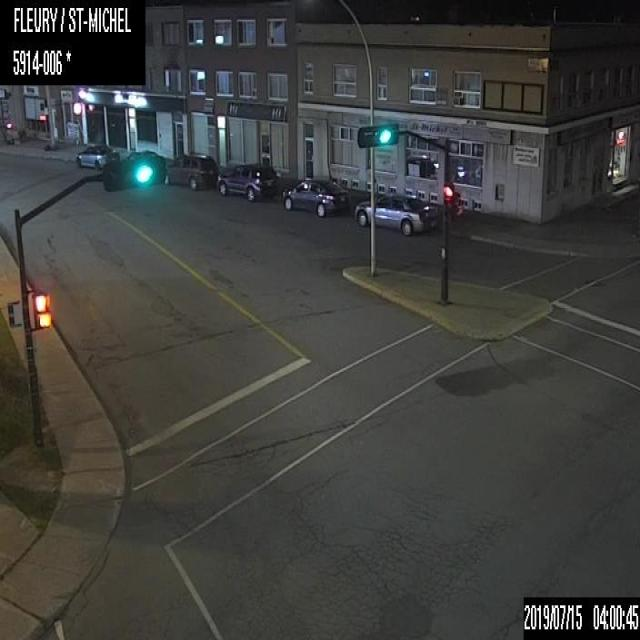vehicle: (356, 190, 436, 234), (281, 175, 349, 216), (218, 164, 278, 200), (163, 152, 217, 188), (76, 140, 119, 169), (124, 150, 162, 158)
